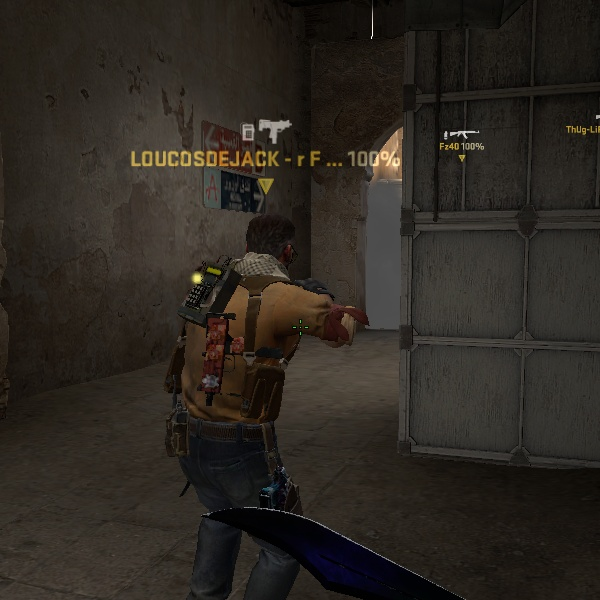t_body: (145, 190, 375, 593)
t_head: (236, 203, 326, 284)
